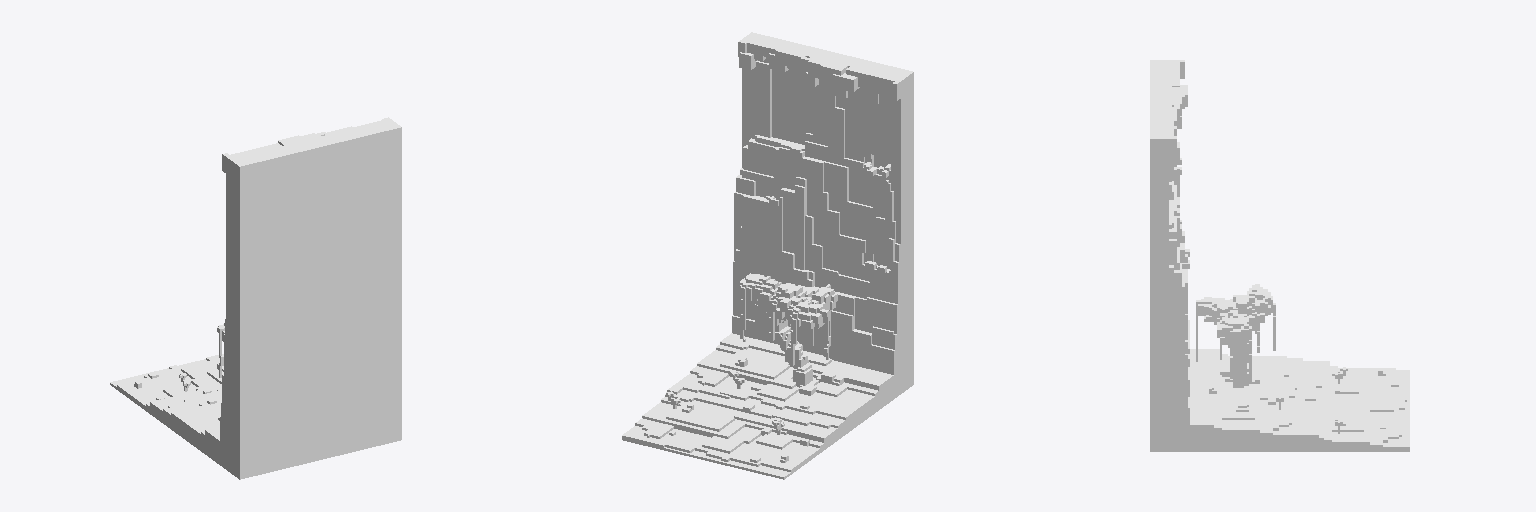
File: meadow_with_tree.obj
3 renders of one model, left to right at view 1: azimuth 30°, elevation 25°; view 2: azimuth 150°, elevation 25°; view 3: azimuth 270°, elevation 25°, orthographic.
Parts seen in each view (by area): view 1: object 1; view 2: object 1; view 3: object 1.
Part boxes in pixels (x1,y1,x2,y2): object 1: (110,117,401,479); object 1: (622,32,913,479); object 1: (1150,60,1409,451).
Bounding box in the file's own units: 7 × 12.9 × 9.7.